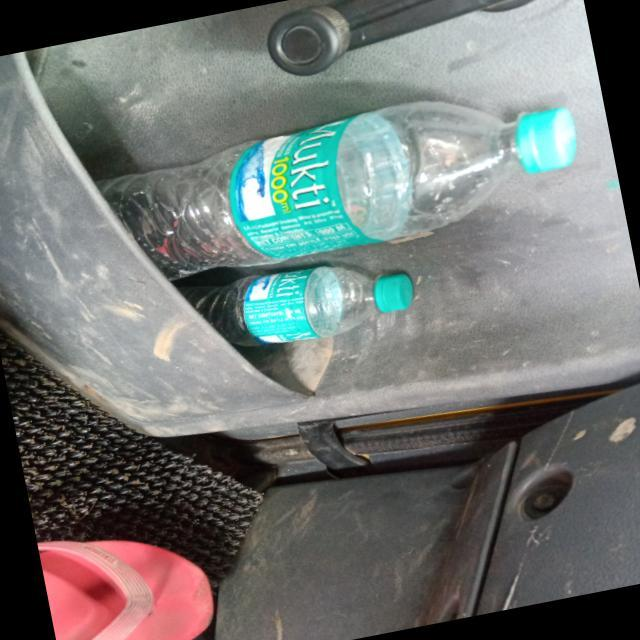good: (12, 68, 594, 320), (156, 244, 422, 366)
